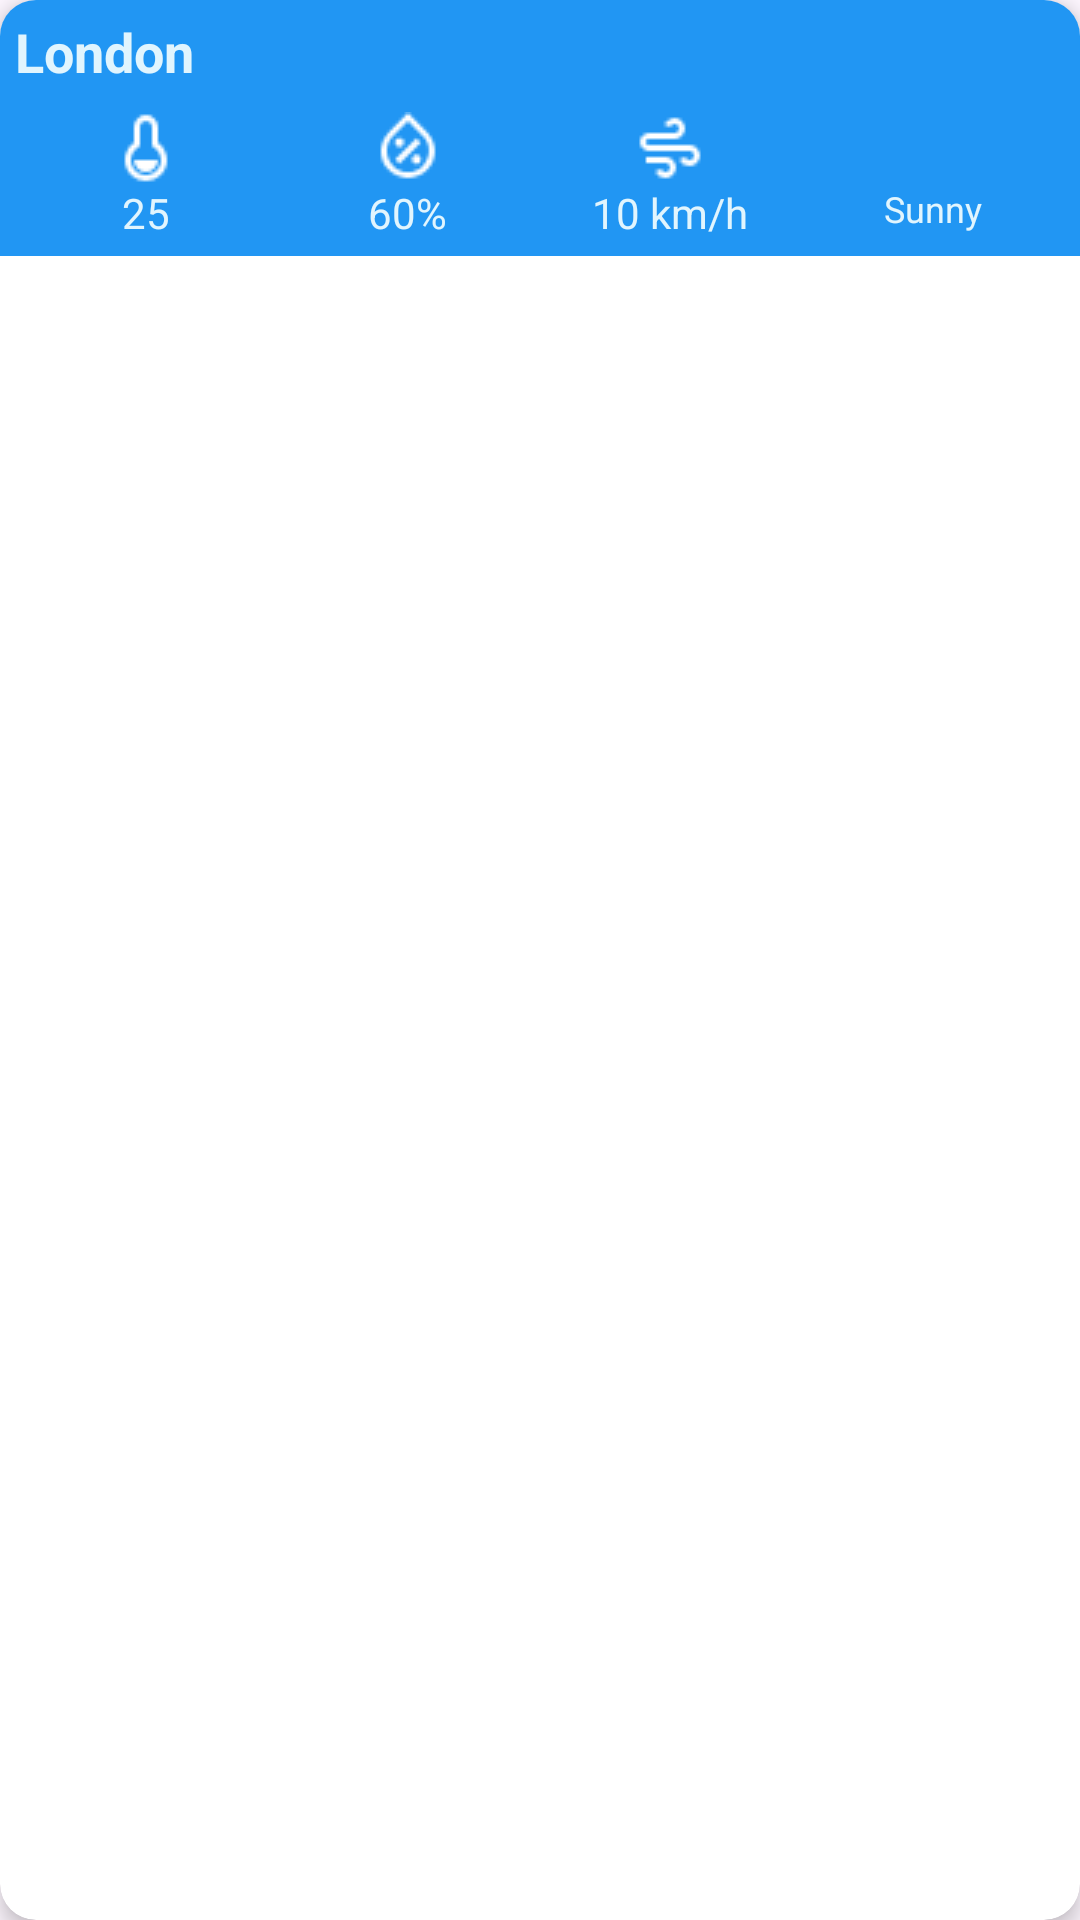

Point at icon controls on the screen. Image size 1080*1920, points as [x,y].
celcius: [146,148]
humidity: [408,145]
wind: [670,148]
